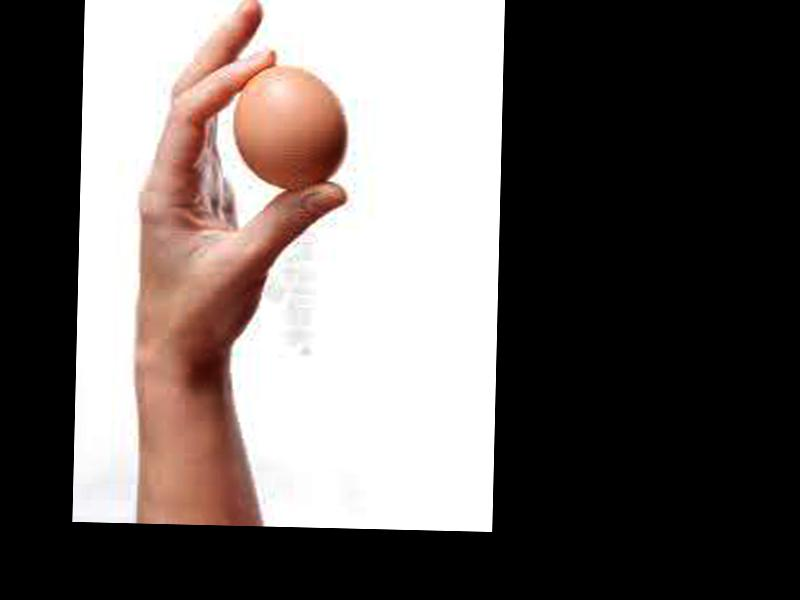Eggs: (234, 65, 347, 192)
